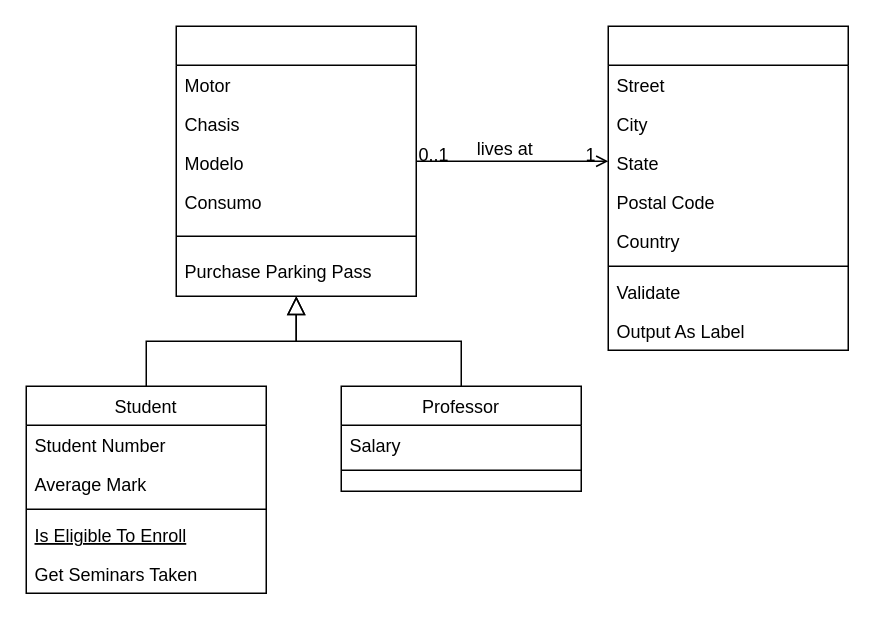
Some shapes in this 875 by 624 pixel diagram are drawn without their labels. The box of each missing label's shape, as (x1, y1, x2, y2) in pixels:
Address: (607, 25, 848, 350)
Vehiculo: (175, 25, 416, 296)
